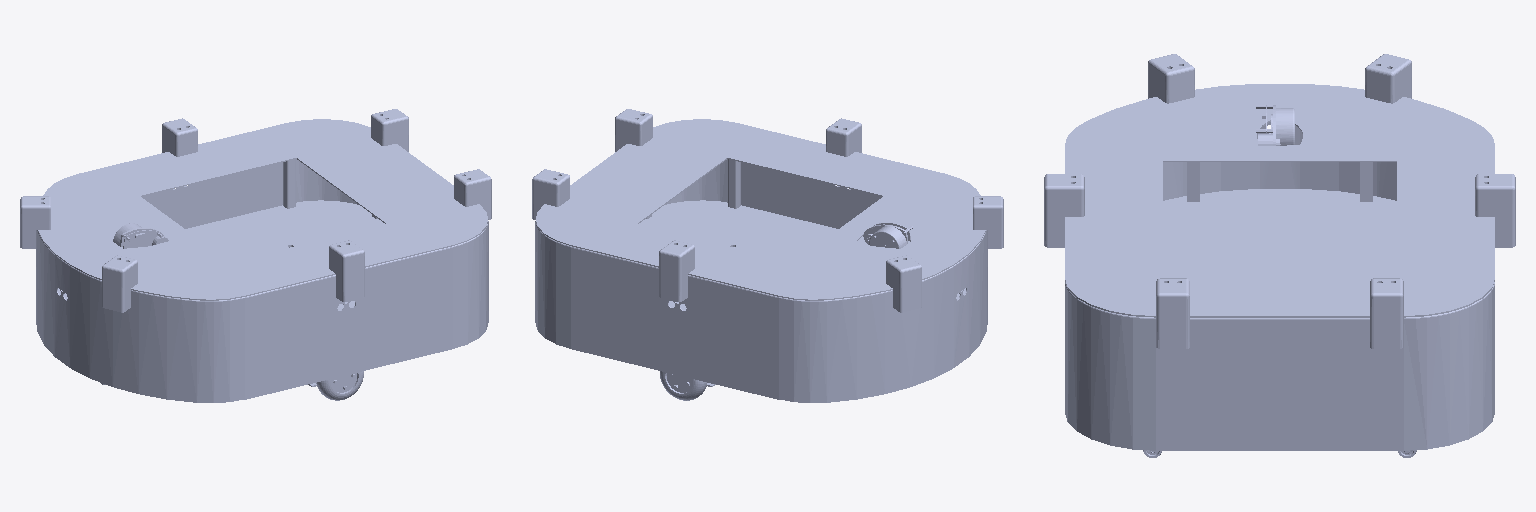
The robot description file, URDF, robot "robot":
<!-- <?xml version="1.0" encoding="utf-8"?> -->
<!-- This URDF was automatically created by SolidWorks to URDF Exporter! Originally created by [author] ([email redacted]) 
     Commit Version: 1.6.0-4-g7f85cfe  Build Version: 1.6.7995.38578
     For more information, please see http://wiki.ros.org/sw_urdf_exporter -->
<robot
  name="robot">
  <link
    name="base_link">
    <inertial>
      <origin
        xyz="0 0 0.05"
        rpy="0 0 0" />
      <mass
        value="9.08067022392529" />
      <inertia
        ixx="0.15"
        iyy="0.15"
        izz="0.20"
        ixy="0"
        ixz="0"
        iyz="0"/>
    </inertial>
    <visual>
      <origin
        xyz="-0.614550155792539 -1.29354332227915 1.03"
        rpy="3.14159265358979 0 0" />
      <geometry>
        <mesh
          filename="package://robot/meshes/base_link.STL" />
      </geometry>
      <material
        name="">
        <color
          rgba="0.792156862745098 0.819607843137255 0.933333333333333 1" />
      </material>
    </visual>
    <collision>
      <origin
        xyz="0 0 0.075"
        rpy="0 0 0" />
      <geometry>
        <box size="0.40 0.30 0.16"/>
        <!-- <mesh
          filename="package://robot/meshes/base_link.STL" /> -->
      </geometry>
    </collision>
  </link>
  <link
    name="imu_link">
    <inertial>
      <origin xyz="0 0 0" rpy="0 0 0"/>
      <mass value="0.01"/>
      <inertia
        ixx="1e-6" iyy="1e-6" izz="1e-6"
        ixy="0" ixz="0" iyz="0"/>
    </inertial>
  </link>
  <joint
   name="imu_joint" type="fixed">
    <parent link="base_link"/>
    <child link="imu_link"/>
    <origin xyz="0 0 0.05" rpy="0 0 0"/>
  </joint>
  <link
    name="link_ML">
    <inertial>
      <origin
        xyz="2.22044604925031E-16 -0.0179599386722706 -1.11022302462516E-16"
        rpy="0 0 0" />
      <mass
        value="0.251011315053392" />
      <inertia
        ixx="0.000171098509535441"
        ixy="2.79432373552971E-20"
        ixz="2.8316626639491E-21"
        iyy="0.000289498190443086"
        iyz="-6.13714086611614E-20"
        izz="0.000171098509535441" />
    </inertial>
    <visual>
      <origin
        xyz="0 0 0"
        rpy="0 0 0" />
      <geometry>
        <mesh
          filename="package://robot/meshes/link_ML.STL" />
      </geometry>
      <material
        name="">
        <color
          rgba="0.792156862745098 0.819607843137255 0.933333333333333 1" />
      </material>
    </visual>
    <collision>
      <origin
        xyz="0 0 0"
        rpy="1.57079632679 0 0" />
      <geometry>
        <cylinder radius="0.035" length="0.02"/>
        <!-- <mesh
          filename="package://robot/meshes/link_ML.STL" /> -->
      </geometry>
    </collision>
  </link>
  <joint
    name="joint_ML"
    type="continuous">
    <origin
      xyz="0.021427902959243 -0.31282097061132 0.044211512470509"
      rpy="3.14159265358979 0 0" />
    <parent
      link="base_link" />
    <child
      link="link_ML" />
    <axis
      xyz="0 -1 0" />
    <dynamics
      damping="0.1"
      friction="0.1" />
  </joint>
  <link
    name="link_MR">
    <inertial>
      <origin
        xyz="1.11022302462516E-16 0.0179599386722713 2.22044604925031E-16"
        rpy="0 0 0" />
      <mass
        value="0.251011315053392" />
      <inertia
        ixx="0.000171098509535441"
        ixy="-1.79936082399171E-20"
        ixz="-9.62802855095233E-21"
        iyy="0.000289498190443086"
        iyz="6.41137882991723E-22"
        izz="0.000171098509535441" />
    </inertial>
    <visual>
      <origin
        xyz="0 0 0"
        rpy="0 0 0" />
      <geometry>
        <mesh
          filename="package://robot/meshes/link_MR.STL" />
      </geometry>
      <material
        name="">
        <color
          rgba="0.792156862745098 0.819607843137255 0.933333333333333 1" />
      </material>
    </visual>
    <collision>
      <origin
        xyz="0 0 0"
        rpy="1.57079632679 0 0" />
      <geometry>
        <cylinder radius="0.035" length="0.02"/>
        <!-- <mesh
          filename="package://robot/meshes/link_MR.STL" /> -->
      </geometry>
    </collision>
  </link>
  <joint
    name="joint_MR"
    type="continuous">
    <origin
      xyz="0.021427902959243 0.31282097061132 0.044211512470509"
      rpy="3.14159265358979 0 0" />
    <parent
      link="base_link" />
    <child
      link="link_MR" />
    <axis
      xyz="0 1 0" />
    <dynamics
      damping="0.1"
      friction="0.1" />
  </joint>
  <link
    name="laser">
    <inertial>
      <origin
        xyz="-0.00748346988332899 0.0106681277328403 9.1926111092322E-05"
        rpy="0 0 0" />
      <mass
        value="1.33076913637071" />
      <inertia
        ixx="0.00061491794045409"
        ixy="0.000158243025911169"
        ixz="8.01984318975272E-07"
        iyy="0.00109815200027136"
        iyz="3.09162986587581E-06"
        izz="0.000960697335617222" />
    </inertial>
    <visual>
      <origin
        xyz="0 0 0"
        rpy="0 0 0" />
      <geometry>
        <mesh
          filename="package://robot/meshes/laser.STL" />
      </geometry>
      <material
        name="">
        <color
          rgba="0.792156862745098 0.819607843137255 0.933333333333333 1" />
      </material>
    </visual>
    <collision>
      <origin
        xyz="0 0 0"
        rpy="0 0 0" />
      <geometry>
        <mesh
          filename="package://robot/meshes/laser.STL" />
      </geometry>
    </collision>
  </link>
  <joint
    name="joint_lidar"
    type="fixed">
    <origin
      xyz="-0.253965851694518 -0.01114593432007 0.273211512470503"
      rpy="0 0 0" />
    <parent
      link="base_link" />
    <child
      link="laser" />
    <axis
      xyz="0 0 0" />
  </joint>
</robot>

--- Facts derived from the render (not from the file) ---
3 views of the same robot in one strip: view 1: azimuth 30°, elevation 25°; view 2: azimuth 150°, elevation 25°; view 3: azimuth 270°, elevation 25° (orthographic).
Model robot with 5 links and 4 joints (2 continuous, 2 fixed), rooted at base_link, posed all joints at 0.
Links seen in each view (by area): view 1: base_link, laser, link_ML; view 2: base_link, laser, link_MR; view 3: base_link, laser.
Boxes of the visible links, left/top/right/bottom form: base_link: left=20, top=109, right=491, bottom=402; laser: left=113, top=223, right=168, bottom=248; link_ML: left=316, top=371, right=363, bottom=400; base_link: left=532, top=109, right=1003, bottom=402; laser: left=863, top=222, right=912, bottom=248; link_MR: left=660, top=371, right=706, bottom=400; base_link: left=1044, top=54, right=1515, bottom=457; laser: left=1256, top=105, right=1294, bottom=145.
Size in the robot's own frame: 0.856 by 0.705 by 0.334 metres.
4 mesh visuals loaded from 4 distinct referenced files (4 binary STL).
